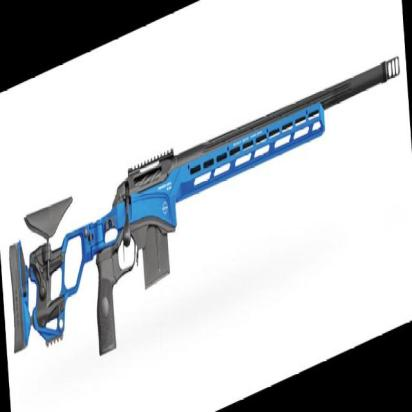Gun: (2, 25, 408, 398)
